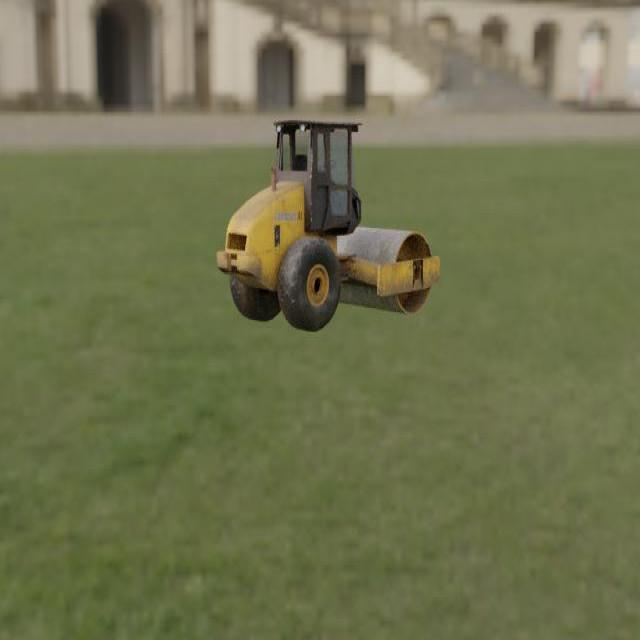Roller: (216, 120, 440, 332)
